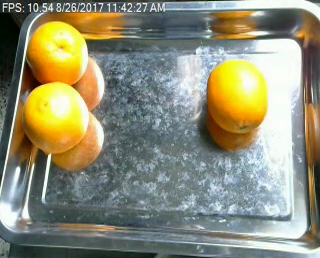Orange: (22, 81, 90, 153), (207, 58, 269, 134), (26, 21, 89, 85)
